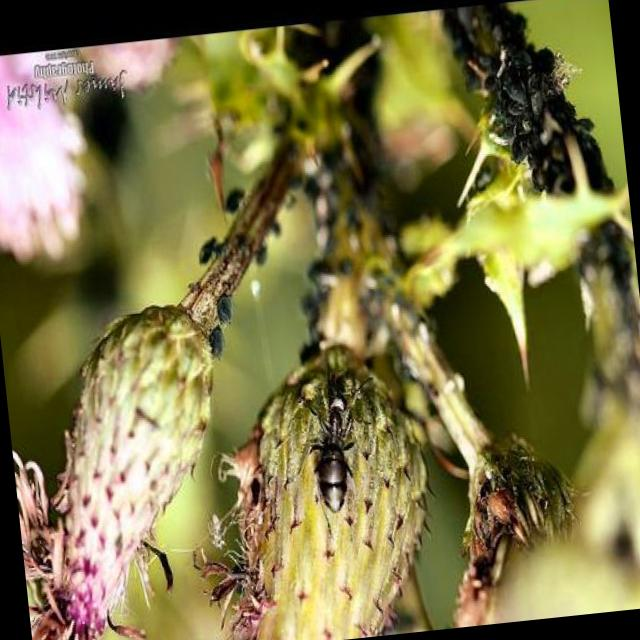aphid: (451, 0, 597, 202), (310, 438, 354, 518)
